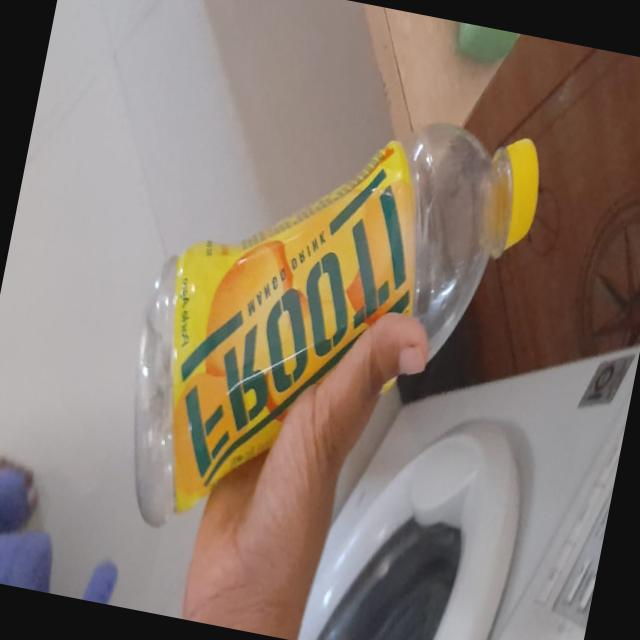Plastic - Recyclable: (104, 66, 550, 588)
